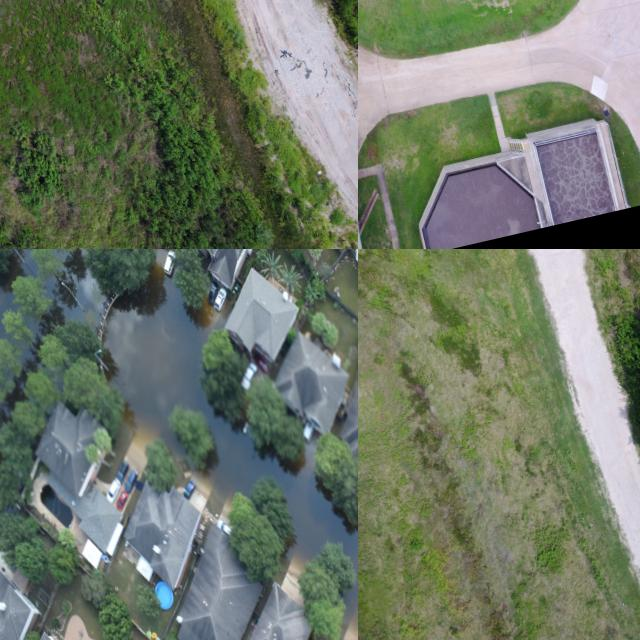fire: (104, 269, 358, 574), (19, 249, 35, 266)
